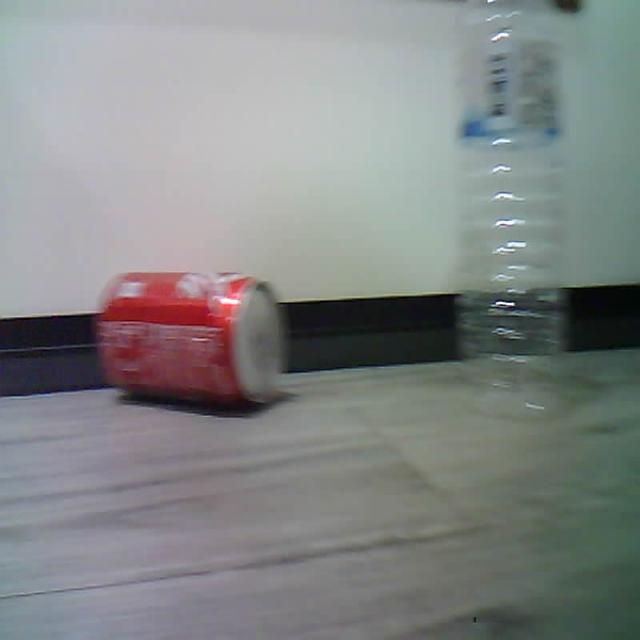bottle: (458, 0, 563, 414)
can: (97, 272, 285, 403)
